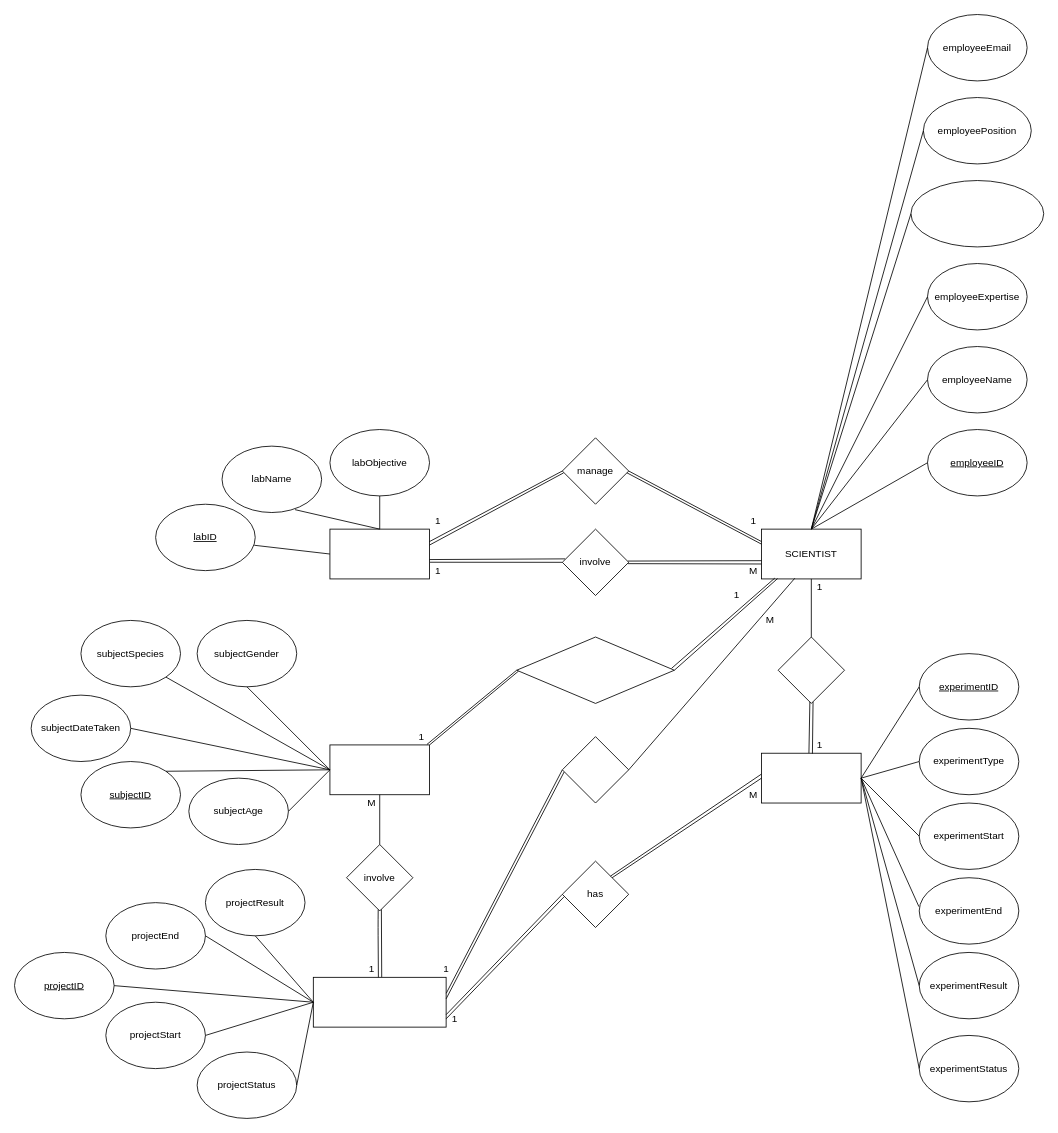
The diagram is 1058 pixels wide and 1133 high, and some of its shapes have lost their labels. Each missing label, with the centre of its shape:
"employeePhoneNumber" belongs at point 977,213.
"EXPERIMENT" belongs at point 811,777.
"experiment on" belongs at point 595,669.
"LABORATORY" belongs at point 379,553.
"participate" belongs at point 595,769.
"perform" belongs at point 811,669.
"RESEARCHPROJECT" belongs at point 379,1001.
"TESTSUBJECT" belongs at point 379,769.
